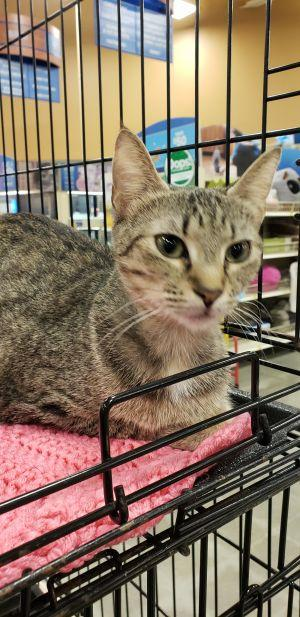bengal: (101, 115, 295, 340)
